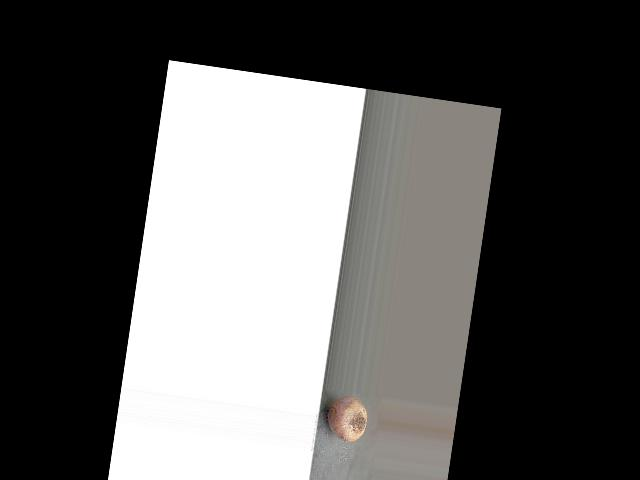beet: (324, 392, 369, 443)
